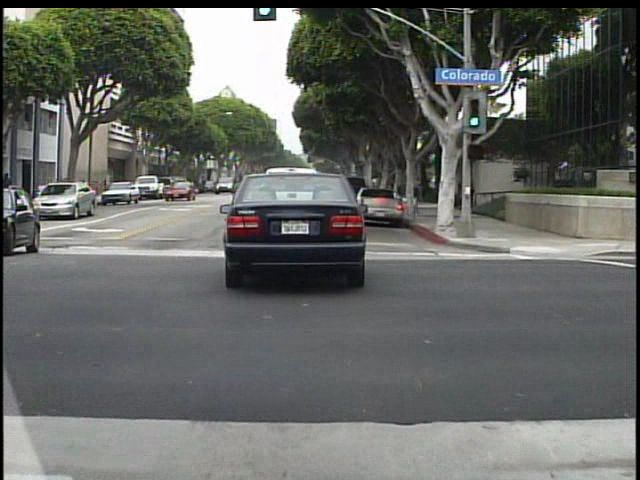person: (3, 169, 19, 204)
